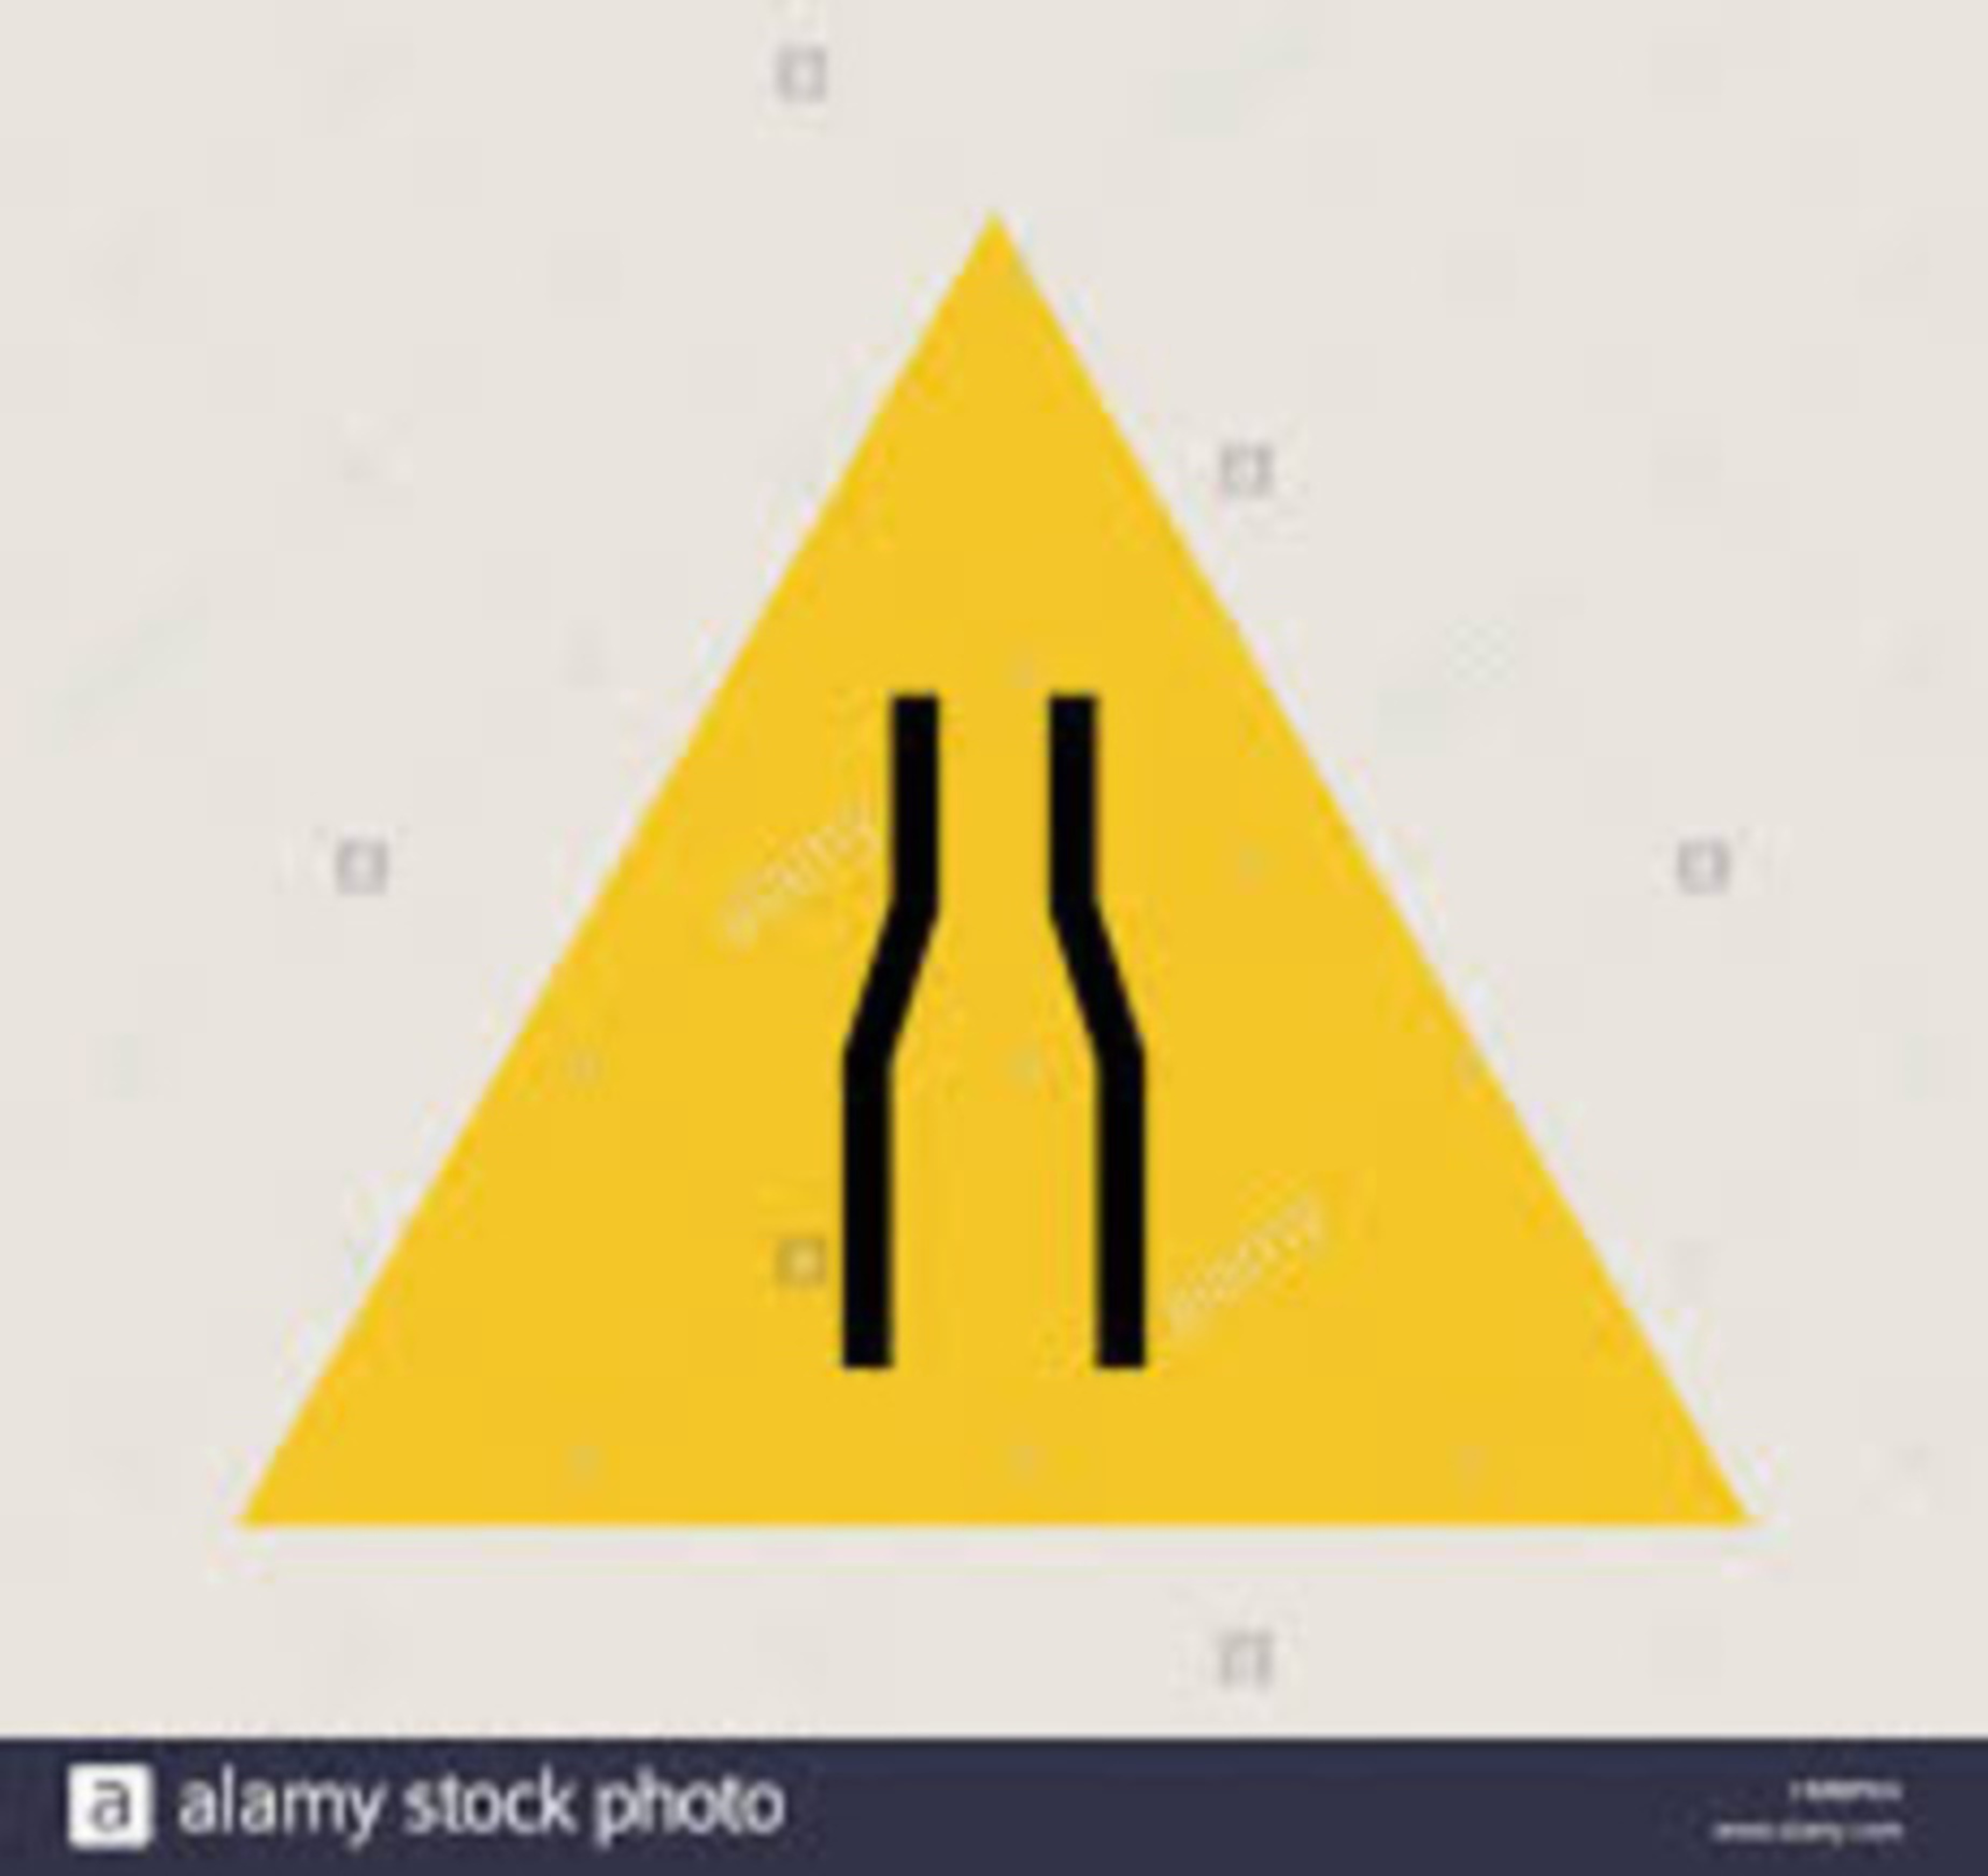Narrow_road: (235, 169, 1792, 1631)
